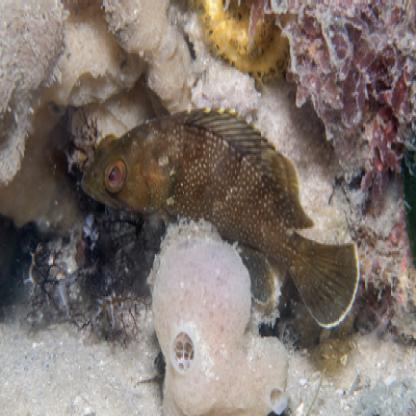grouper: (79, 103, 360, 332)
